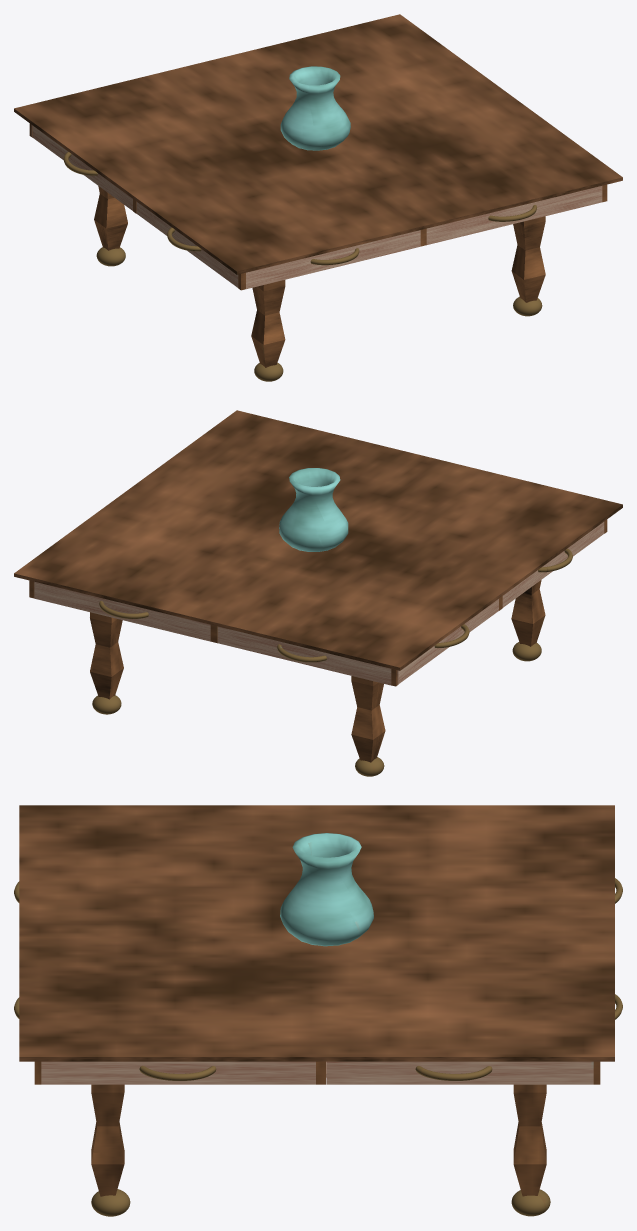
The model's file is table_v3.fbx.
3 views of the same model, one above another, from view 1: azimuth 30°, elevation 25°; view 2: azimuth 150°, elevation 25°; view 3: azimuth 270°, elevation 25° (orthographic). The views are drawn at different scales.
Visible parts, largest first — view 1: Cube.023; view 2: Cube.023; view 3: Cube.023.
Part boxes in pixels (x1,y1,x2,y2): Cube.023: [14, 14, 622, 381]; Cube.023: [14, 410, 622, 776]; Cube.023: [14, 805, 622, 1216].
Size of the model in its own units: 1096 by 560 by 1092.
1 material, 1 textured.
